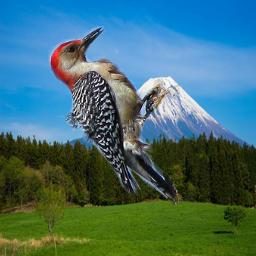Woodpecker: (48, 26, 180, 205)
